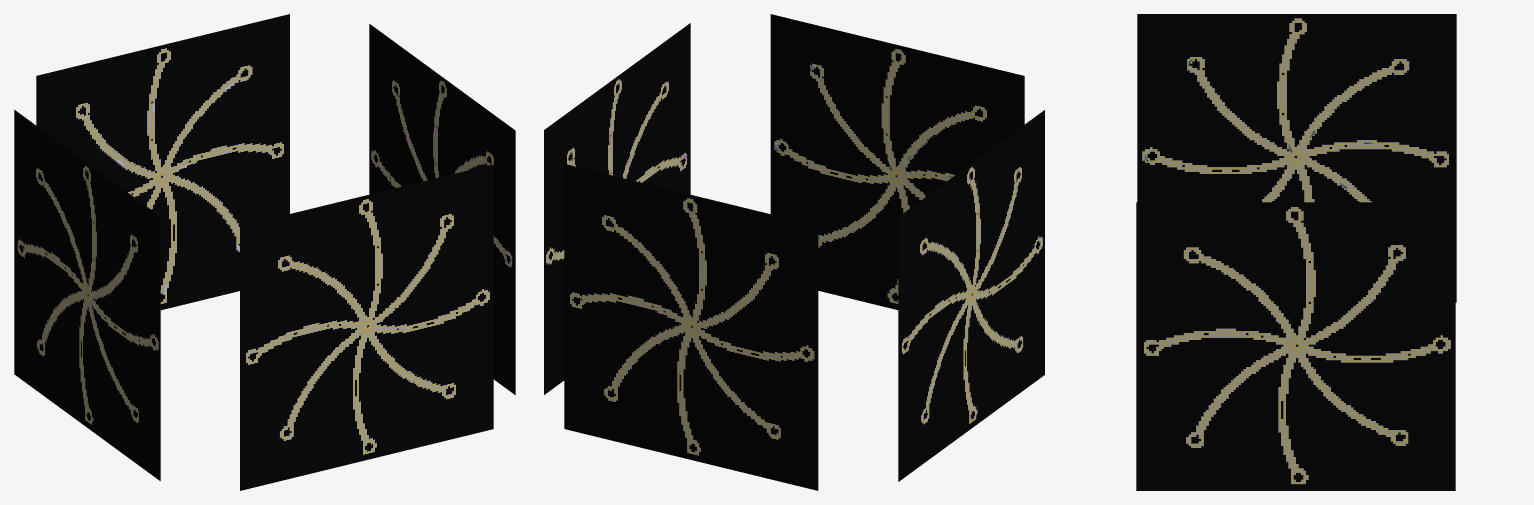
The picture shows the model from 3 angles, left to right: view 1: azimuth 30°, elevation 25°; view 2: azimuth 150°, elevation 25°; view 3: azimuth 270°, elevation 25°; orthographic projection. The views are drawn at different scales.
Parts seen in each view (by area): view 1: TEXT; view 2: TEXT; view 3: TEXT.
Boxes of the visible parts, x1,y1,x2,y2 form: TEXT: (14, 14, 515, 490); TEXT: (544, 14, 1044, 490); TEXT: (1136, 14, 1456, 490).
Bounding box in the file's own units: 7.92 × 5.66 × 7.93.
2 materials, 2 textured.
